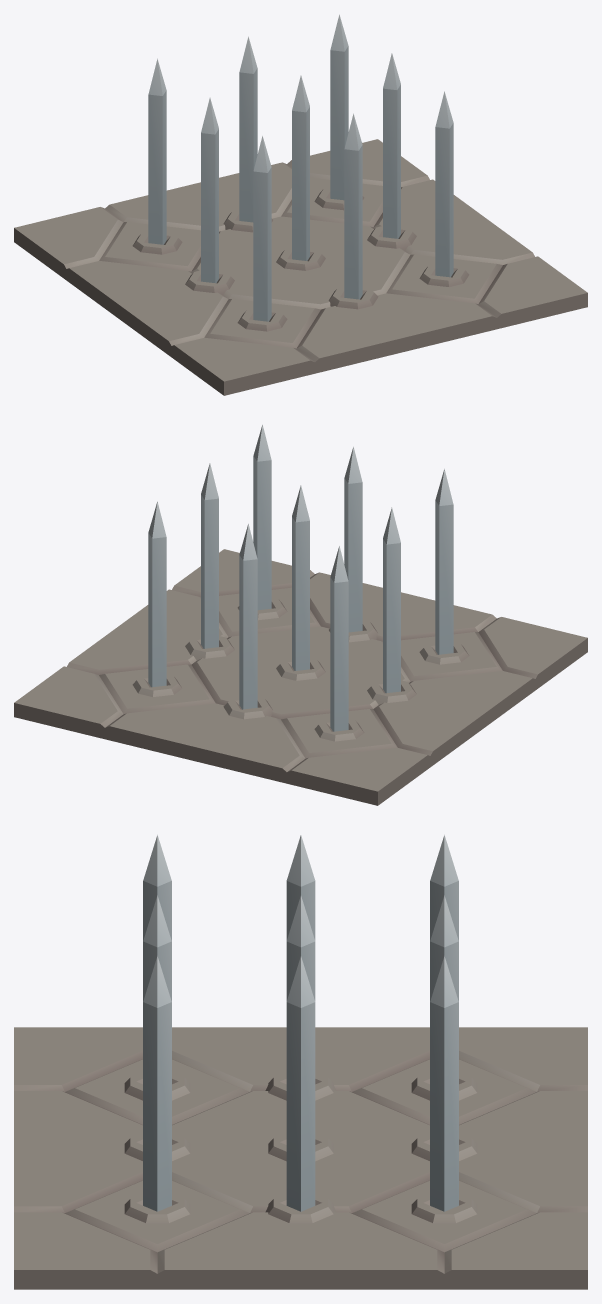
The model's file is floor_tile_big_spikes.glb.
3 renders of one model, top to bottom at view 1: azimuth 30°, elevation 25°; view 2: azimuth 150°, elevation 25°; view 3: azimuth 270°, elevation 25°, orthographic. The views are drawn at different scales.
Parts seen in each view (by area): view 1: floor_tile_big_spikes, spikes; view 2: floor_tile_big_spikes, spikes; view 3: floor_tile_big_spikes, spikes.
Boxes of the visible parts, box(x1,y1,x2,y2) form: floor_tile_big_spikes: box(14, 139, 587, 395); spikes: box(148, 14, 453, 321); floor_tile_big_spikes: box(14, 549, 587, 805); spikes: box(148, 424, 453, 731); floor_tile_big_spikes: box(14, 1027, 587, 1289); spikes: box(143, 834, 458, 1211).
Size of the model in its own units: 4 by 2.1 by 4.
Materials: 1 (1 with a texture image).
